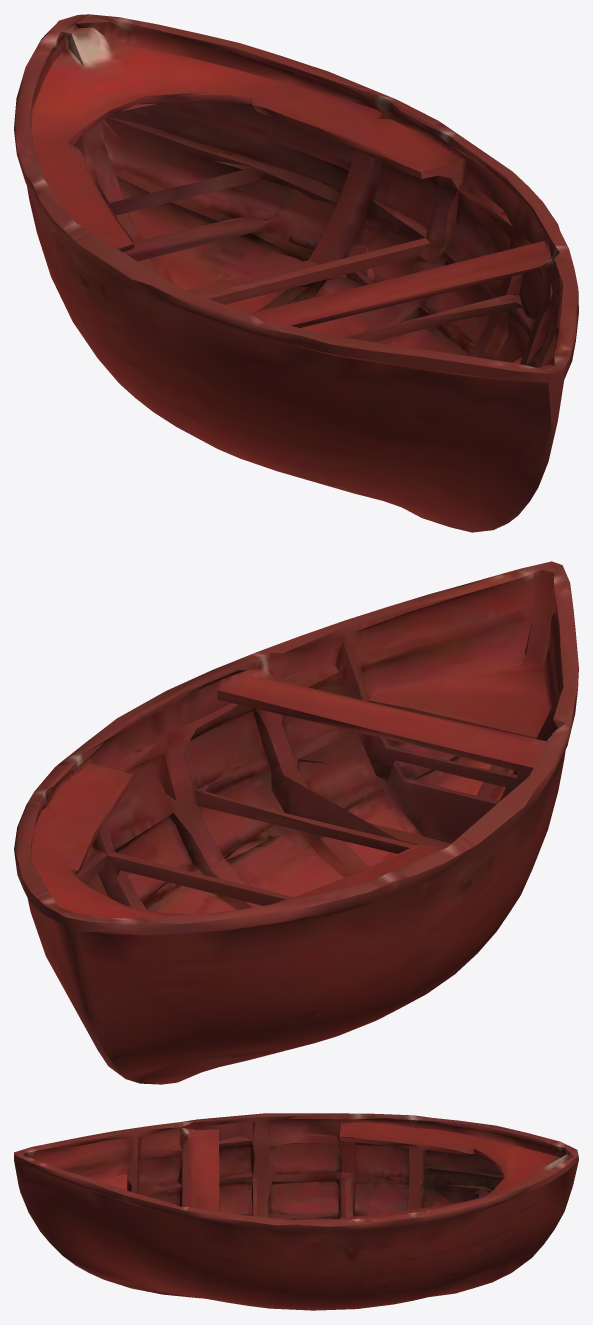
The model's file is canoe.glb.
3 views of the same model, one above another, from view 1: azimuth 30°, elevation 25°; view 2: azimuth 150°, elevation 25°; view 3: azimuth 270°, elevation 25° (orthographic). The views are drawn at different scales.
Visible parts, largest first — view 1: canoe; view 2: canoe; view 3: canoe.
Part boxes in pixels (box(x1,y1,x2,y2)): canoe: box(14, 14, 578, 532); canoe: box(14, 561, 578, 1084); canoe: box(14, 1113, 578, 1310).
Bounding box in the file's own units: 0.9872 × 0.5999 × 2.08.
1 material, 1 textured.
